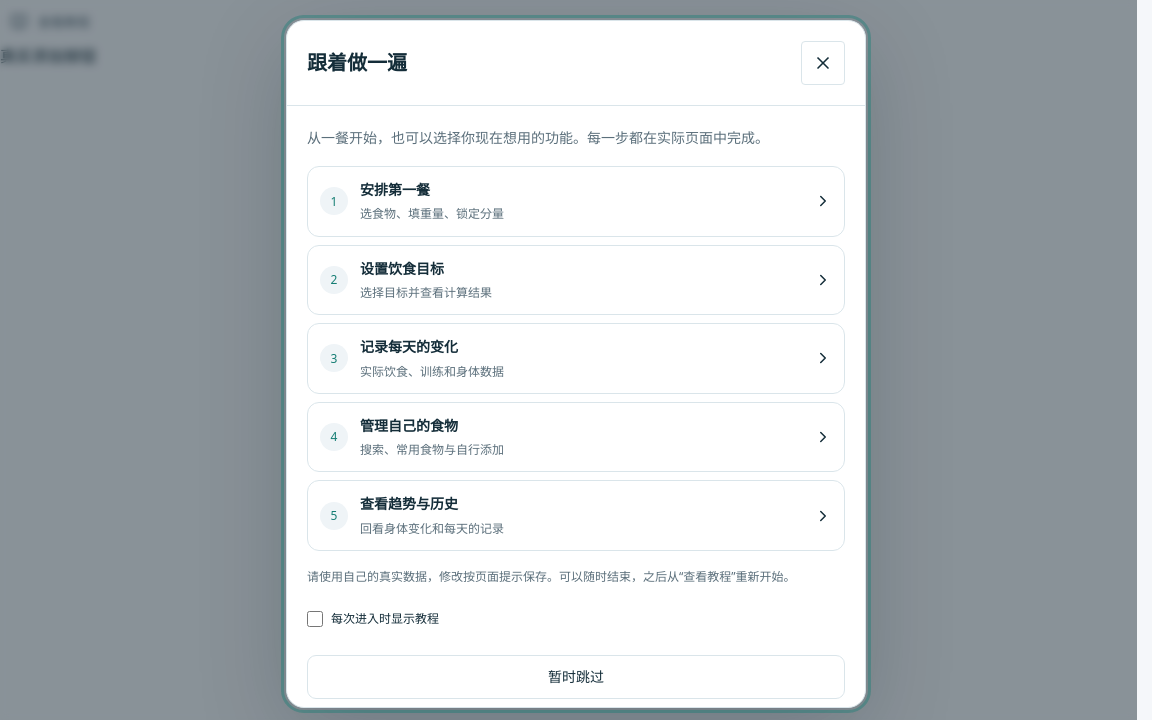
Test: opens once for a new account and remembers explicit dismissal without starting a lesson
Expected: the dialog "跟着做一遍" is shown, [286,20,866,708]
Click the button "暂时跳过" at (576, 677), box [307,655,845,699]
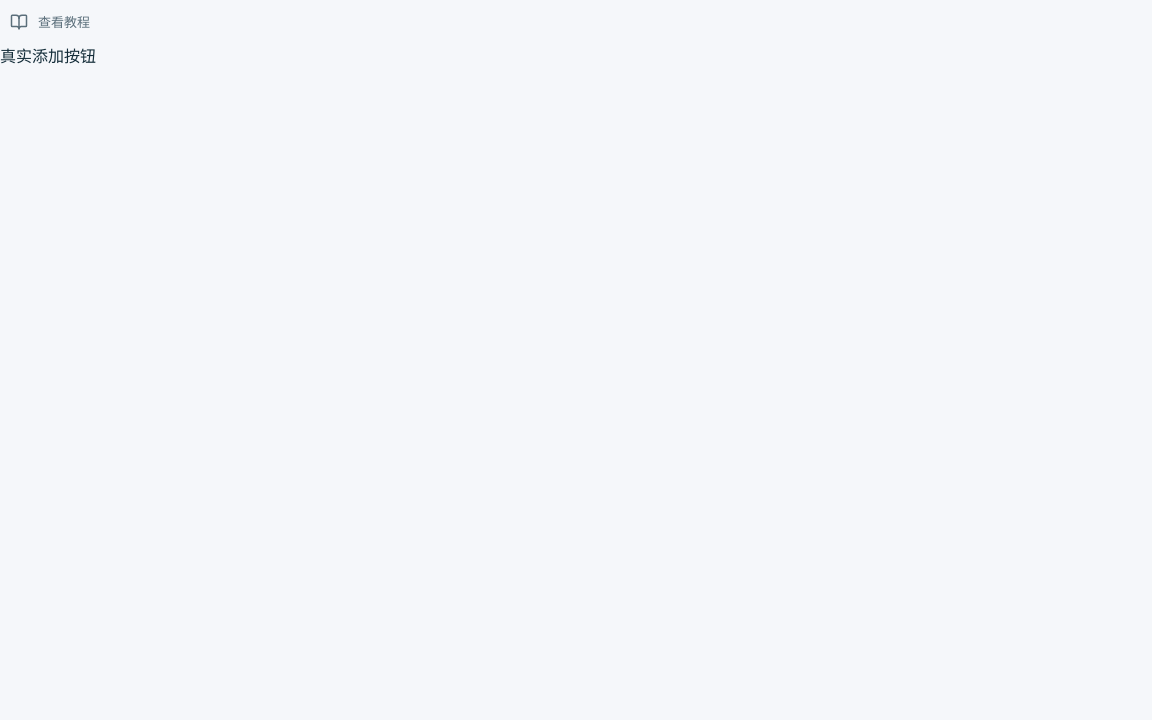
Expected: the dialog is gone
